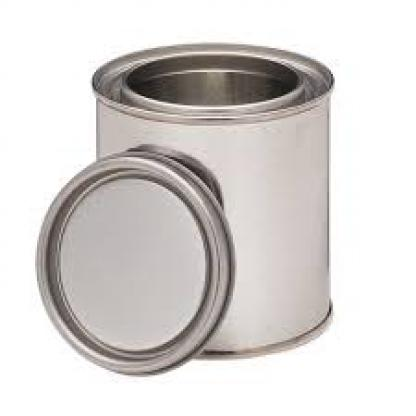METAL: (90, 41, 333, 357), (33, 150, 231, 373)
